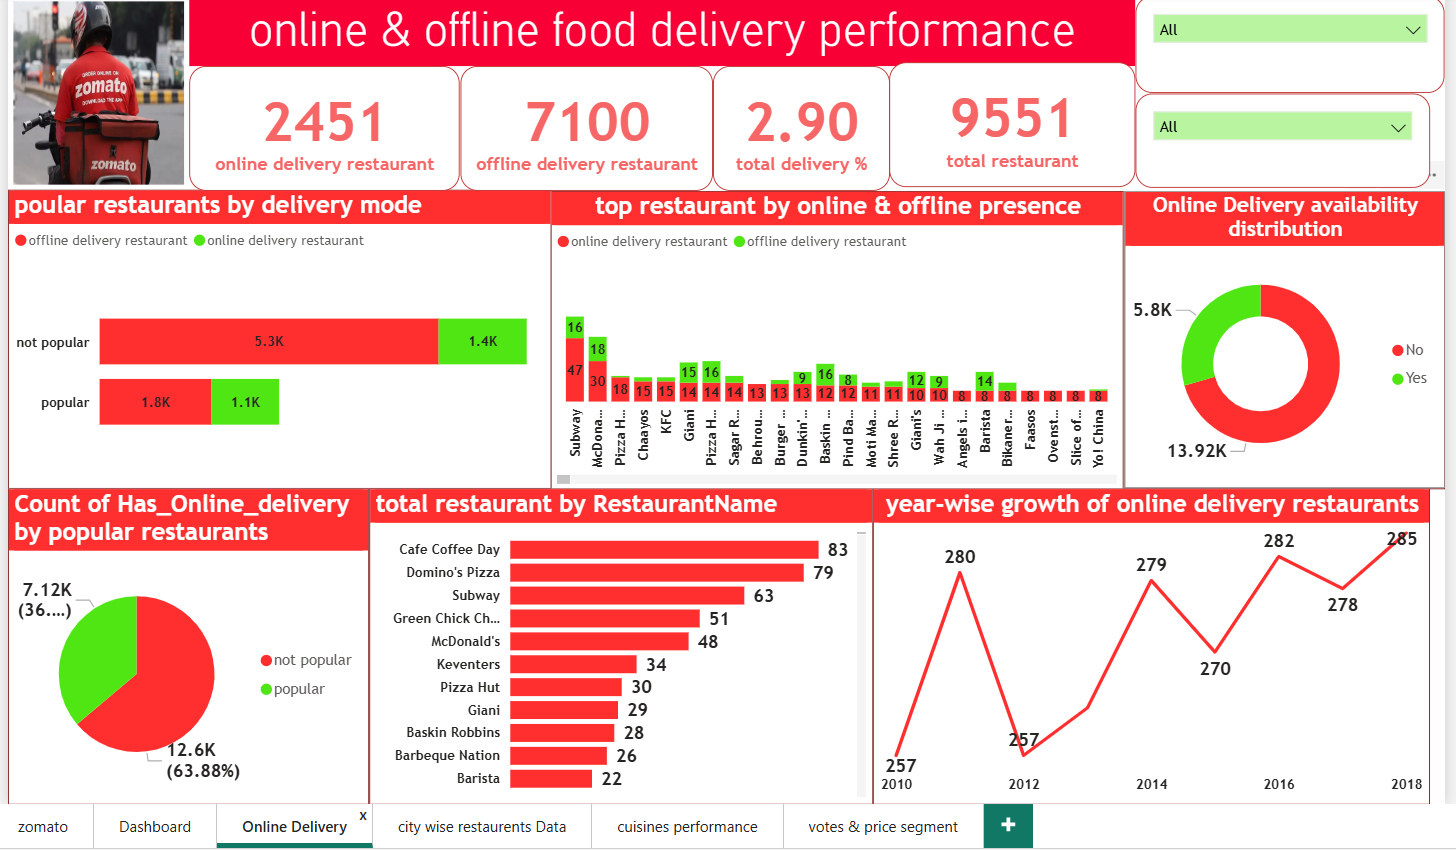

The page's visual inventory and layout, read from the dashboard file:
{"tool":"powerbi","page":{"name":"Online Delivery","canvas":[1280,720],"ordinal":2},"visuals":[{"type":"donutChart","title":"Online Delivery availability distribution","fields":{"Y":["CountNonNull(Sheet1.Has_Online_delivery)"],"Category":["Sheet1.Has_Online_delivery"]},"box":[994.1,173.1,285.7,265.5],"z":0},{"type":"columnChart","title":"  top restaurant by online & offline presence             ","fields":{"Category":["Sheet1.RestaurantName"],"Y":["Sheet1.online delivery restarents","Sheet1.offline delivery restarents"]},"box":[483.3,173.1,510.7,266.9],"z":1000},{"type":"barChart","title":"poular restaurants by delivery mode","fields":{"Y":["Sheet1.offline delivery restarents","Sheet1.online delivery restarents"],"Category":["Sheet1.popular restaurants"]},"box":[0,172.9,483.9,266.2],"z":2000},{"type":"lineChart","title":"year-wise growth of online delivery restaurants","fields":{"Category":["Sheet1.new datekey.Variation.Date Hierarchy.Year"],"Y":["Sheet1.online delivery restarents"]},"box":[770.4,438.6,496.3,281.3],"z":3000},{"type":"slicer","fields":{"Values":["Sheet1.restarent performance"]},"box":[1004.2,0,275.6,86.6],"z":4000},{"type":"slicer","fields":{"Values":["Sheet1.price segment"]},"box":[1004.2,86.6,262.6,83.7],"z":5000},{"type":"textbox","box":[161.6,0,842.6,62],"z":6000},{"type":"card","fields":{"Values":["Sheet1.online delivery restarents"]},"box":[161.6,62,240.9,111.1],"z":7000},{"type":"card","fields":{"Values":["Sheet1.offline delivery restarents"]},"box":[402.5,62,225.1,111.1],"z":8000},{"type":"card","fields":{"Values":["Sheet1.total delivery %"]},"box":[627.6,62,157.3,111.1],"z":9000},{"type":"card","fields":{"Values":["Sheet1.total restarent"]},"box":[784.9,59.2,219.3,111.1],"z":10000},{"type":"pieChart","fields":{"Category":["Sheet1.popular restaurants"],"Y":["CountNonNull(Sheet1.Has_Online_delivery)"]},"box":[0,438.8,321.9,281.7],"z":11000},{"type":"image","box":[0,0,161.6,173.1],"z":12000},{"type":"barChart","fields":{"Y":["Sheet1.total restarent"],"Category":["Sheet1.RestaurantName"]},"box":[321.7,438.6,448.7,281.3],"z":13001}]}

Visuals, with their boxes in screenshot pixels (x1, y1, x2, y2):
"Online Delivery availability distribution" donutChart: [1119, 187, 1439, 484]
"  top restaurant by online & offline presence             " columnChart: [546, 187, 1119, 486]
"poular restaurants by delivery mode" barChart: [4, 186, 547, 485]
"year-wise growth of online delivery restaurants" lineChart: [868, 484, 1425, 800]
slicer - Sheet1.restarent performance: [1130, 0, 1439, 90]
slicer - Sheet1.price segment: [1130, 90, 1425, 183]
textbox: [185, 0, 1130, 62]
card - Sheet1.online delivery restarents: [185, 62, 455, 187]
card - Sheet1.offline delivery restarents: [455, 62, 708, 187]
card - Sheet1.total delivery %: [708, 62, 884, 187]
card - Sheet1.total restarent: [884, 59, 1130, 183]
pieChart - Sheet1.popular restaurants x CountNonNull(Sheet1.Has_Online_delivery): [4, 485, 365, 801]
image: [4, 0, 185, 187]
barChart - Sheet1.total restarent x Sheet1.RestaurantName: [365, 484, 868, 800]
